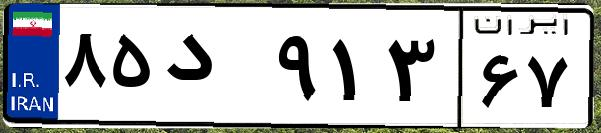1: (330, 28, 385, 110)
3: (385, 28, 445, 110)
5: (110, 28, 158, 98)
6: (475, 38, 525, 113)
7: (525, 38, 570, 115)
8: (57, 26, 110, 100)
9: (270, 28, 330, 110)
د: (158, 20, 270, 120)
